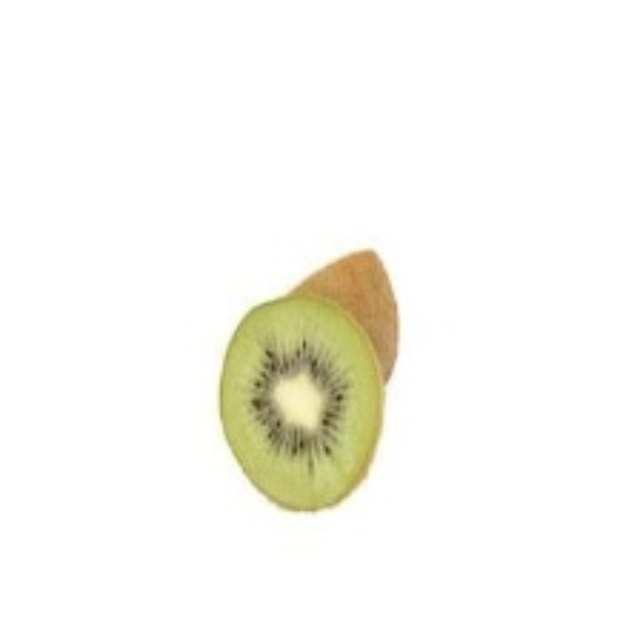kiwi: (216, 245, 416, 521)
